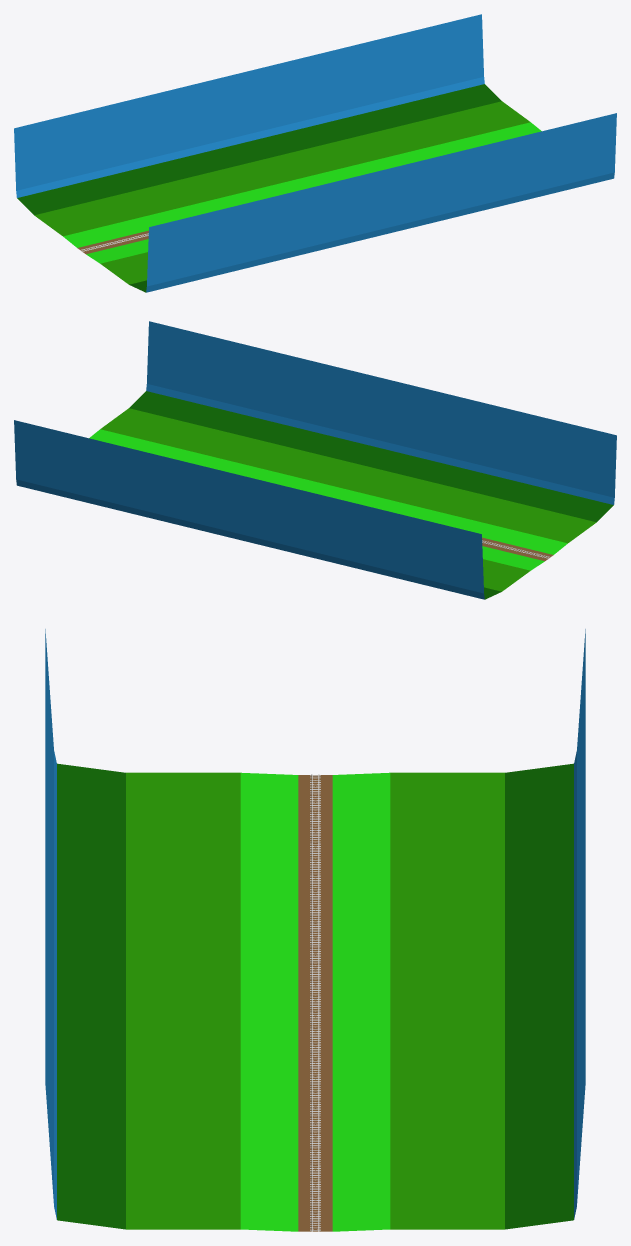
Rendered from Recto.fbx.
3 renders of one model, top to bottom at view 1: azimuth 30°, elevation 25°; view 2: azimuth 150°, elevation 25°; view 3: azimuth 270°, elevation 25°, orthographic. The views are drawn at different scales.
Visible parts, largest first — view 1: Plano Suelto.005; view 2: Plano Suelto.005; view 3: Plano Suelto.005.
Part boxes in pixels (x1,y1,x2,y2): Plano Suelto.005: (14,14,616,292); Plano Suelto.005: (14,321,616,599); Plano Suelto.005: (45,629,585,1231).
Size of the model in its own units: 20011 by 3000 by 10000.
